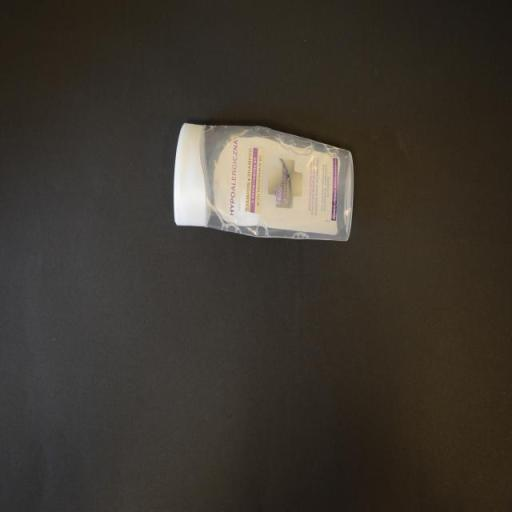plastic: (168, 118, 360, 244)
